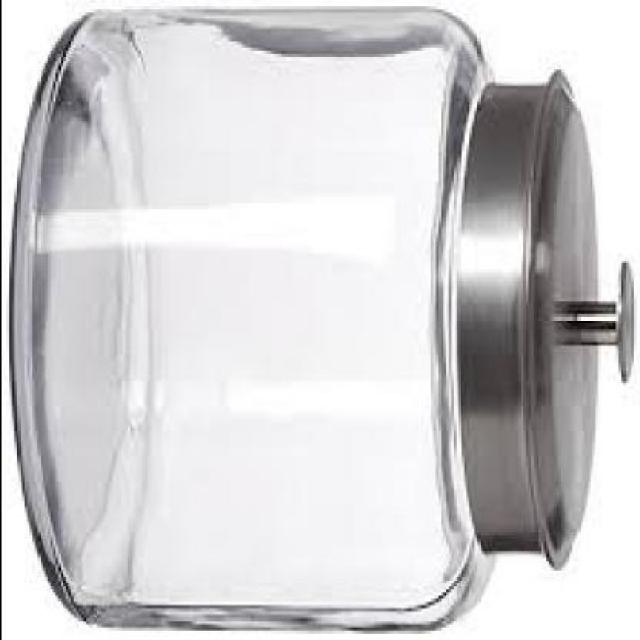GLASS: (16, 6, 496, 628)
METAL: (457, 66, 635, 568)
